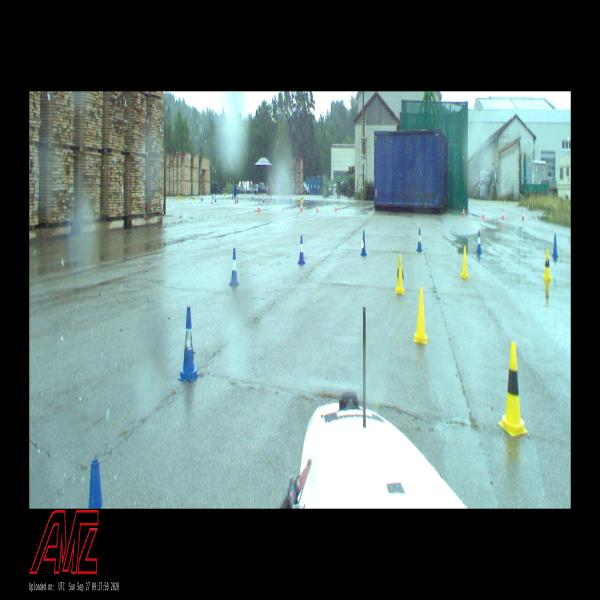blue_cone: (181, 306, 197, 379), (89, 460, 102, 508), (230, 248, 239, 286), (298, 236, 305, 264), (552, 234, 559, 258), (361, 230, 367, 256), (476, 230, 482, 253), (417, 228, 422, 252), (290, 196, 292, 204), (270, 193, 272, 200), (215, 194, 216, 202), (237, 195, 238, 202), (263, 196, 264, 202), (252, 194, 253, 199), (232, 194, 233, 199), (202, 196, 202, 201), (213, 193, 213, 199)
orange_cone: (482, 208, 485, 219), (502, 209, 504, 220), (522, 210, 524, 220), (463, 208, 465, 218), (258, 202, 260, 212), (282, 202, 284, 212), (300, 203, 302, 212), (211, 196, 213, 204), (335, 203, 337, 211), (267, 196, 269, 204), (317, 204, 318, 212), (235, 196, 236, 204)
yellow_cone: (502, 342, 524, 433), (414, 288, 428, 343), (396, 255, 404, 294), (460, 246, 469, 278), (544, 249, 551, 281), (293, 194, 295, 202), (302, 195, 304, 202), (244, 192, 246, 199), (224, 193, 226, 199), (186, 194, 188, 199), (193, 195, 194, 203), (178, 194, 179, 201), (264, 192, 265, 199), (301, 196, 302, 202), (278, 194, 278, 199)
